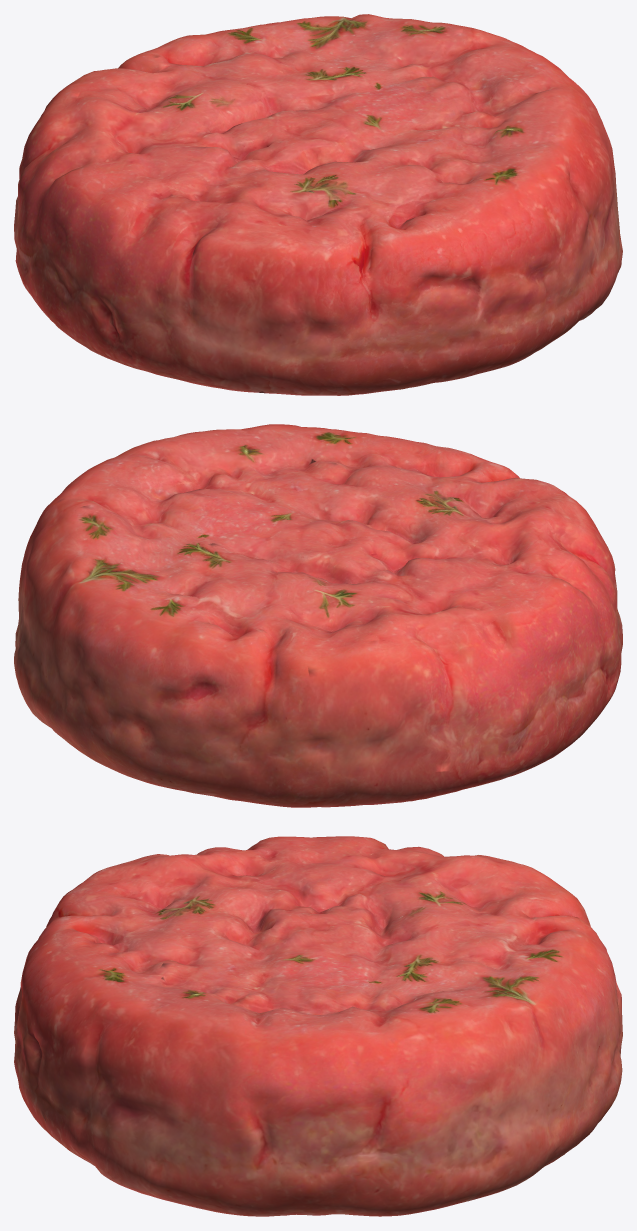
The model's file is patty.glb.
3 views of the same model, one above another, from view 1: azimuth 30°, elevation 25°; view 2: azimuth 150°, elevation 25°; view 3: azimuth 270°, elevation 25° (orthographic). The views are drawn at different scales.
Bounding box in the file's own units: 1.99 × 0.7009 × 1.99.
1 material, 1 textured.
